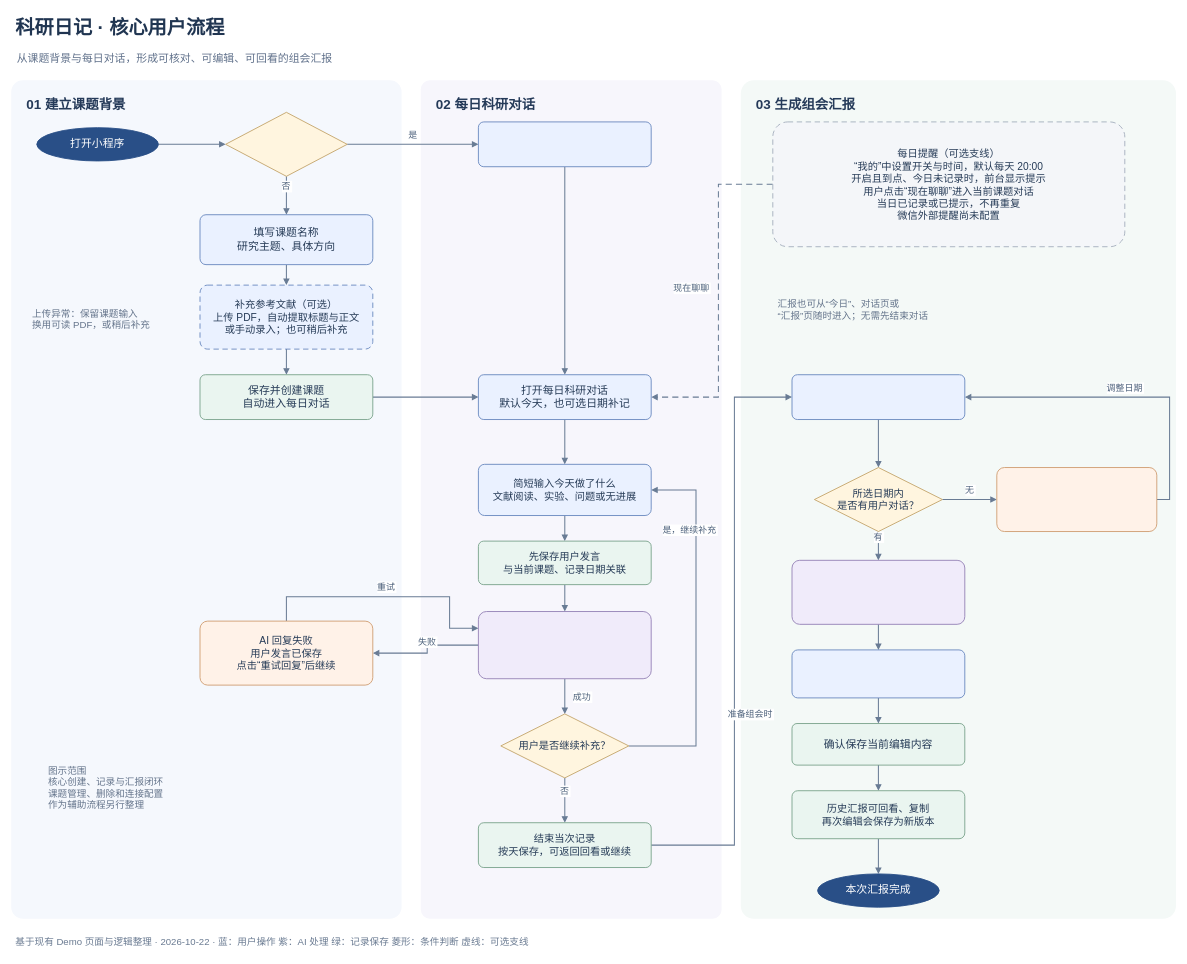
Image size: 1187x964. Some labels were removed from this diagram. The centre of each missing label's shape, as x and y in pixels:
AI 生成可编辑的汇报草稿 只依据当前课题、期间用户发言 附来源，不把计划写成成果: (x=878, y=592)
AI 结合课题、历史与相关文献 理解当日进展并追问 PDF 正文引用注明文献与页码: (x=564, y=645)
是否已有课题？: (x=286, y=144)
显示“0 条来源” 提示调整日期或先补记 不编造期间成果: (x=1076, y=499)
用户核对事实与来源 查看原对话，编辑汇报内容: (x=878, y=673)
组会前进入汇报 选择起止日期并点击生成: (x=878, y=397)
进入当前课题 需要时在“课题”中切换: (x=564, y=144)
